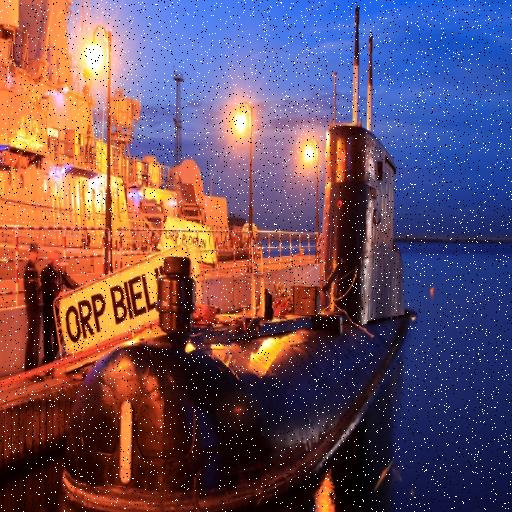submarine: (58, 3, 447, 512)
